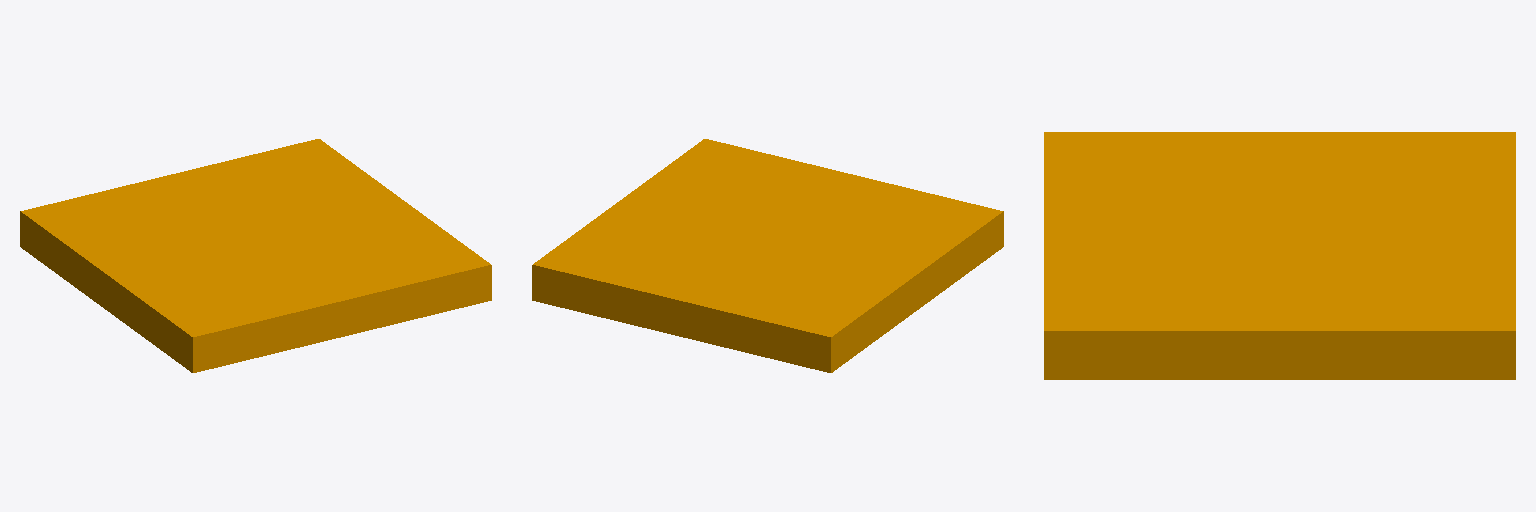
robot.urdf — apriltag_13_3611:
<robot name="apriltag_13_3611">

    <link name="apriltag_link_id13">
        <inertial>
            <origin xyz="0 0 0" rpy="0 0 0"/>
            <mass value="1.0"/>
            <inertia ixx="0.07461" ixy="0.0" ixz="0.0" iyy="0.5854" iyz="0.0" izz="0.02641"/>
        </inertial>
        <collision>
            <origin xyz="0 0 0" rpy="0 0 0"/>
            <geometry>
                <box size="0.2 0.2 0.1"/>
            </geometry>
        </collision>
        <visual>
            <origin xyz="0 0 0" rpy="0 0 0"/>
            <geometry>
                <mesh filename="package://apriltag_description/meshes/apriltag_13.dae"/>
            </geometry>
        </visual>
    </link>
    
    <gazebo reference="apriltag_link_id13">
        <kp>100000.0</kp>
        <kd>100000.0</kd>
        <mu1>0.1</mu1>
        <mu2>0.1</mu2>  
        <fdir1>1 0 0</fdir1>

           <!-- this tag may be unecessary if static is set to true
            (but using since may set static to false later)-->
        <gravity>0</gravity>
    </gazebo>

    <!-- Make sure that the reference="" attribute is not specified -->
    <gazebo>
        <static>true</static>
     
        
    </gazebo>
    

</robot>

--- Facts derived from the render (not from the file) ---
The picture shows the robot from 3 angles, left to right: view 1: azimuth 30°, elevation 25°; view 2: azimuth 150°, elevation 25°; view 3: azimuth 270°, elevation 25°; orthographic projection.
Robot: apriltag_13_3611 — 1 links, 0 joints (none); root link apriltag_link_id13; default pose: all joints at 0.
Visible links, largest first — view 1: apriltag_link_id13; view 2: apriltag_link_id13; view 3: apriltag_link_id13.
Link boxes in pixels (x1,y1,x2,y2): apriltag_link_id13: [20, 139, 491, 372]; apriltag_link_id13: [532, 139, 1003, 372]; apriltag_link_id13: [1044, 132, 1515, 379].
Bounding box of the posed robot: 0.16 × 0.16 × 0.0184 m (x, y, z).
Meshes: 1 distinct files referenced, 1 mesh visuals loaded (1 Collada DAE).